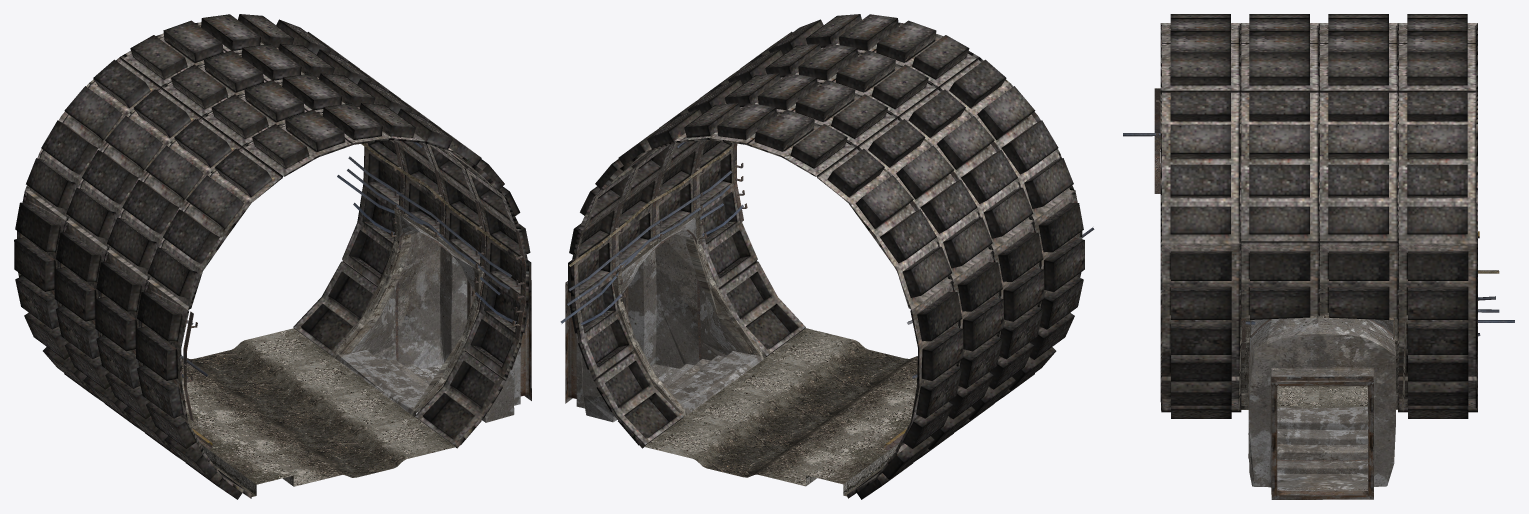
The model's file is tunnel_zelezo_exit.obj.
3 renders of one model, left to right at view 1: azimuth 30°, elevation 25°; view 2: azimuth 150°, elevation 25°; view 3: azimuth 270°, elevation 25°, orthographic. The views are drawn at different scales.
Visible parts, largest first — view 1: concrete34_opalubka_tunnel_ao, concrete34_opalubka_tunnel_ao002, concrete34_opalubka_tunnel_ao004, concrete34_opalubka_tunnel_ao005, level_174, floor_tunnel_pod, floor_tunnel_pod001, floor_tunnel_pod002, floor_tunnel_pod003, level_181, level_239, metal_corr_dsc (+3 smaller); view 2: concrete34_opalubka_tunnel_ao002, concrete34_opalubka_tunnel_ao, concrete34_opalubka_tunnel_ao005, concrete34_opalubka_tunnel_ao004, level_174, floor_tunnel_pod003, floor_tunnel_pod002, floor_tunnel_pod001, floor_tunnel_pod, level_181, level_239, metal_trub_tonnel003 (+2 smaller); view 3: concrete34_opalubka_tunnel_ao, concrete34_opalubka_tunnel_ao002, concrete34_opalubka_tunnel_ao004, concrete34_opalubka_tunnel_ao005, level_174, level_239, level_181, floor_tunnel_pod002, floor_tunnel_pod001, metal_corr_dsc.
Part boxes in pixels (left/top/right/bottom): concrete34_opalubka_tunnel_ao: left=136, top=103, right=531, bottom=499; concrete34_opalubka_tunnel_ao002: left=14, top=14, right=404, bottom=402; concrete34_opalubka_tunnel_ao004: left=95, top=73, right=485, bottom=462; concrete34_opalubka_tunnel_ao005: left=54, top=43, right=445, bottom=432; level_174: left=336, top=215, right=520, bottom=422; floor_tunnel_pod: left=215, top=417, right=455, bottom=496; floor_tunnel_pod001: left=189, top=388, right=415, bottom=466; floor_tunnel_pod002: left=184, top=358, right=374, bottom=424; floor_tunnel_pod003: left=181, top=328, right=333, bottom=394; level_181: left=332, top=208, right=483, bottom=416; level_239: left=467, top=280, right=531, bottom=400; metal_corr_dsc: left=183, top=229, right=525, bottom=421; concrete34_opalubka_tunnel_ao002: left=568, top=103, right=963, bottom=499; concrete34_opalubka_tunnel_ao: left=696, top=14, right=1084, bottom=402; concrete34_opalubka_tunnel_ao005: left=615, top=73, right=1003, bottom=462; concrete34_opalubka_tunnel_ao004: left=656, top=43, right=1044, bottom=432; level_174: left=576, top=217, right=762, bottom=422; floor_tunnel_pod003: left=644, top=417, right=884, bottom=496; floor_tunnel_pod002: left=685, top=387, right=910, bottom=465; floor_tunnel_pod001: left=725, top=358, right=915, bottom=424; floor_tunnel_pod: left=766, top=328, right=917, bottom=394; level_181: left=611, top=210, right=766, bottom=417; level_239: left=565, top=281, right=628, bottom=403; metal_trub_tonnel003: left=560, top=142, right=917, bottom=449; concrete34_opalubka_tunnel_ao: left=1160, top=14, right=1241, bottom=418; concrete34_opalubka_tunnel_ao002: left=1397, top=14, right=1477, bottom=418; concrete34_opalubka_tunnel_ao004: left=1239, top=14, right=1319, bottom=320; concrete34_opalubka_tunnel_ao005: left=1318, top=14, right=1398, bottom=319; level_174: left=1247, top=318, right=1396, bottom=490; level_239: left=1271, top=376, right=1373, bottom=499; level_181: left=1238, top=314, right=1405, bottom=411; floor_tunnel_pod002: left=1319, top=385, right=1397, bottom=409; floor_tunnel_pod001: left=1241, top=333, right=1319, bottom=409; metal_corr_dsc: left=1154, top=88, right=1160, bottom=193.
Bounding box in the file's own units: 10.79 × 9.07 × 9.04.
